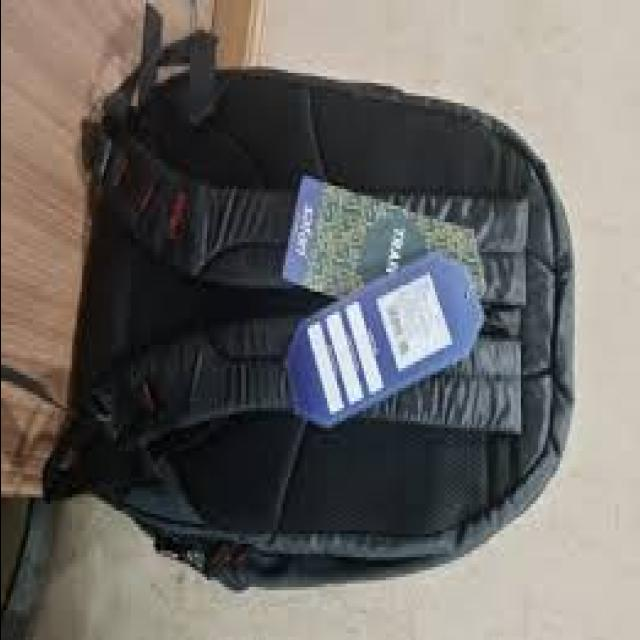backpack: (45, 11, 577, 595)
